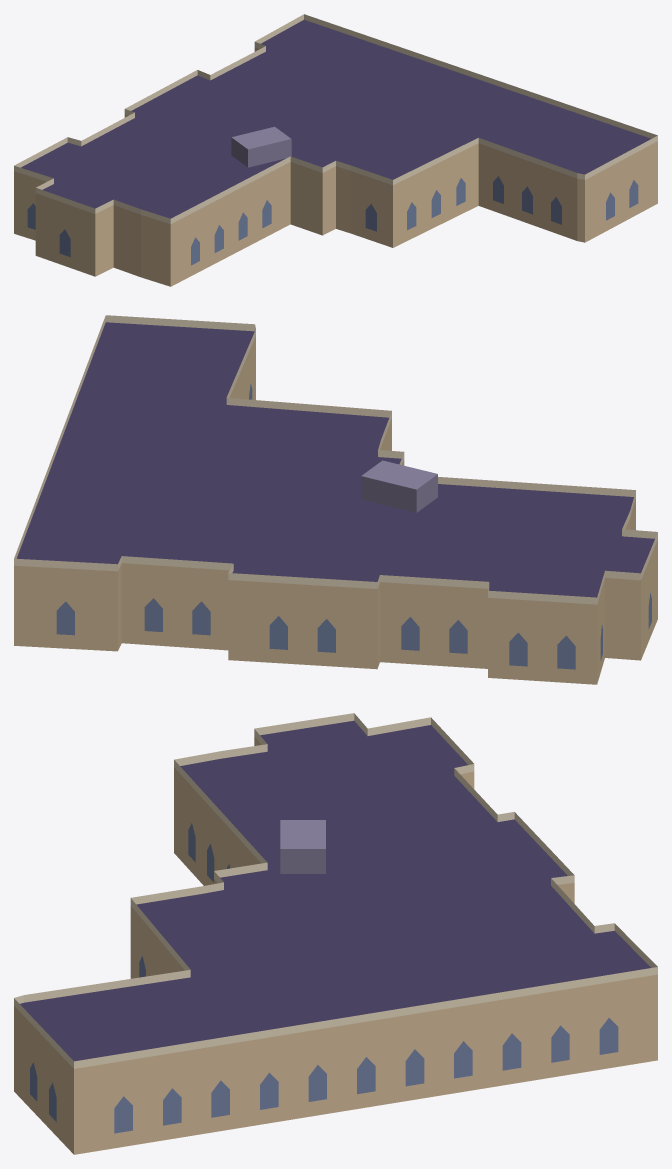
File: b-101-health-sciences-addition-day.glb
3 renders of one model, top to bottom at view 1: azimuth 30°, elevation 25°; view 2: azimuth 150°, elevation 25°; view 3: azimuth 270°, elevation 25°, orthographic. The views are drawn at different scales.
Visible parts, largest first — view 1: campus/b-101-health-sciences-addition-day-0; view 2: campus/b-101-health-sciences-addition-day-0; view 3: campus/b-101-health-sciences-addition-day-0.
Part boxes in pixels (bbox=[...]): campus/b-101-health-sciences-addition-day-0: bbox=[14, 14, 657, 286]; campus/b-101-health-sciences-addition-day-0: bbox=[14, 315, 657, 684]; campus/b-101-health-sciences-addition-day-0: bbox=[14, 713, 657, 1154].
Bounding box in the file's own units: 53.93 × 8 × 42.13.
